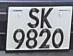0: (52, 26, 65, 50)
2: (38, 28, 53, 51)
8: (26, 28, 40, 50)
9: (13, 27, 27, 51)
K: (40, 6, 52, 30)
S: (25, 8, 40, 30)
